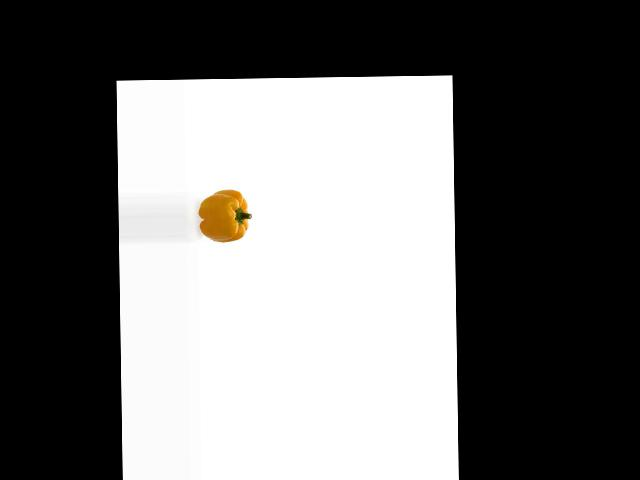bell_pepper: (197, 185, 254, 242)
